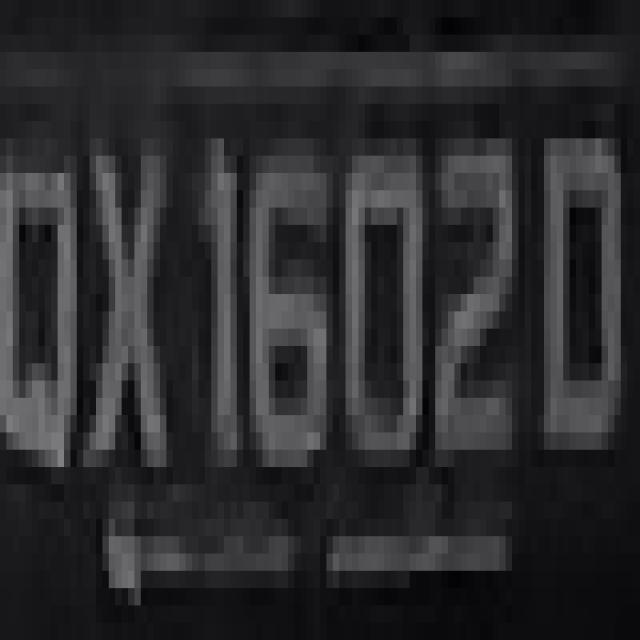0: (333, 69, 429, 519)
1: (192, 69, 250, 519)
2: (422, 87, 538, 467)
6: (230, 104, 340, 519)
D: (544, 70, 640, 484)
Q: (6, 121, 90, 536)
X: (70, 121, 173, 484)
